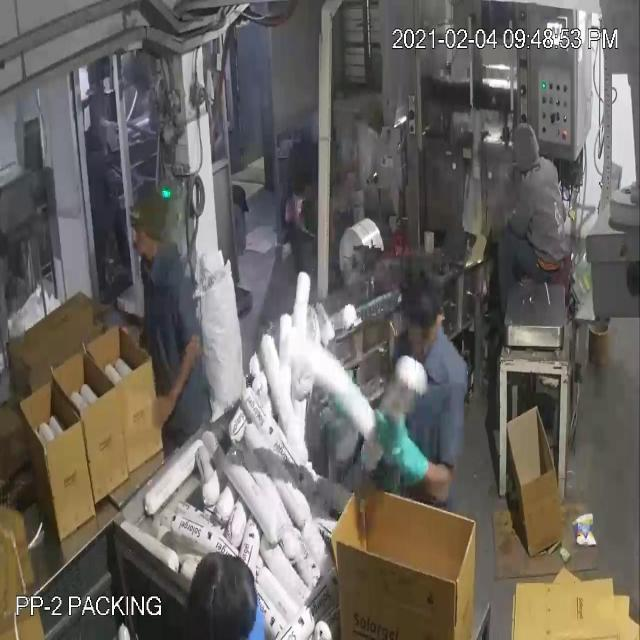No_Gloves: (83, 113, 404, 448)
